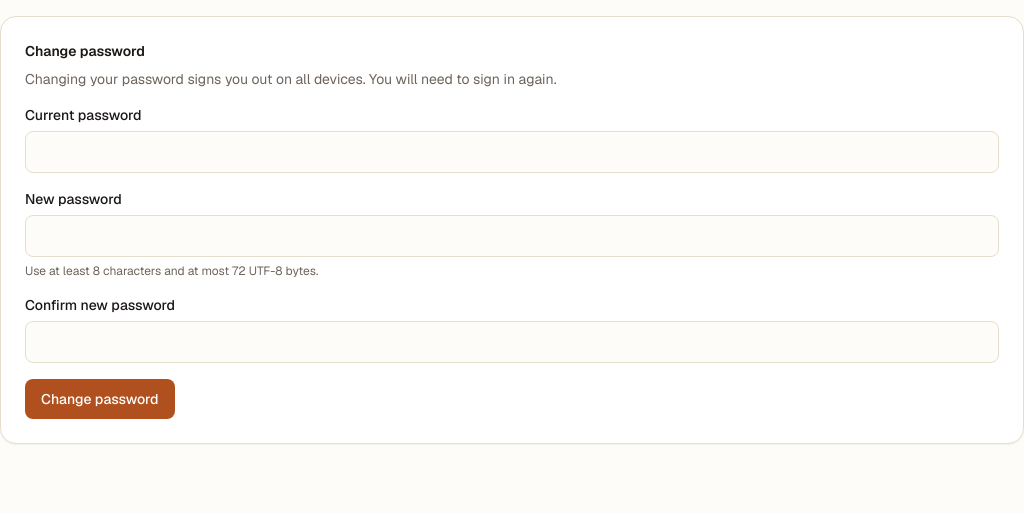
it: profile password form › validates before submitting ( / new password)
The image size is (1024, 513).
In the password field labelled "New password": {"x": 512, "y": 236} [25,215,999,257], type "new password"
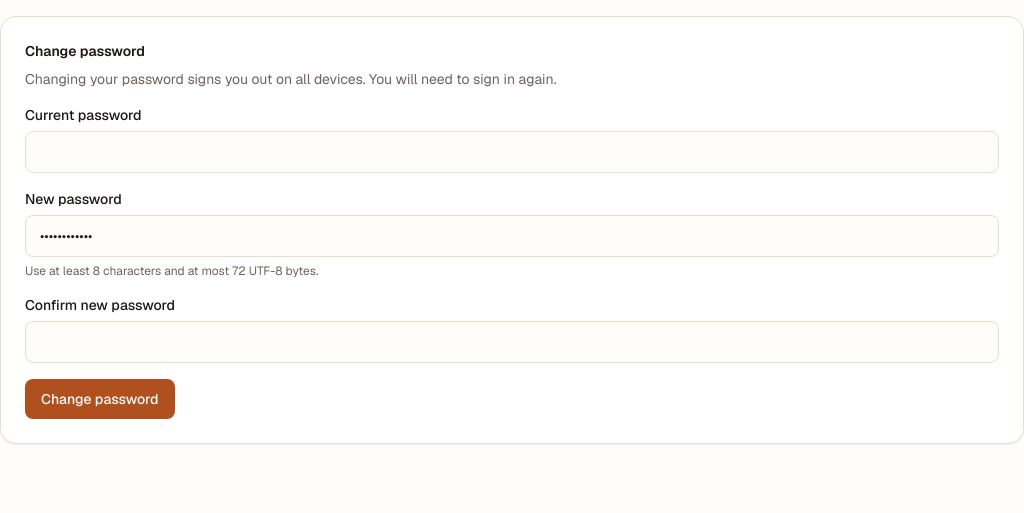
In the password field labelled "Confirm new password": {"x": 512, "y": 342} [25,321,999,363], type "new password"
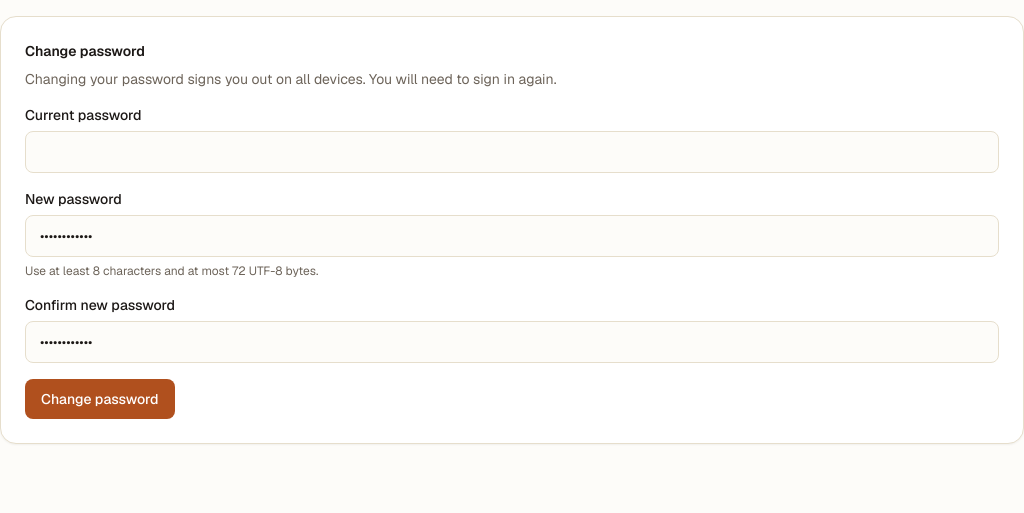
Submit the form named "Change password"
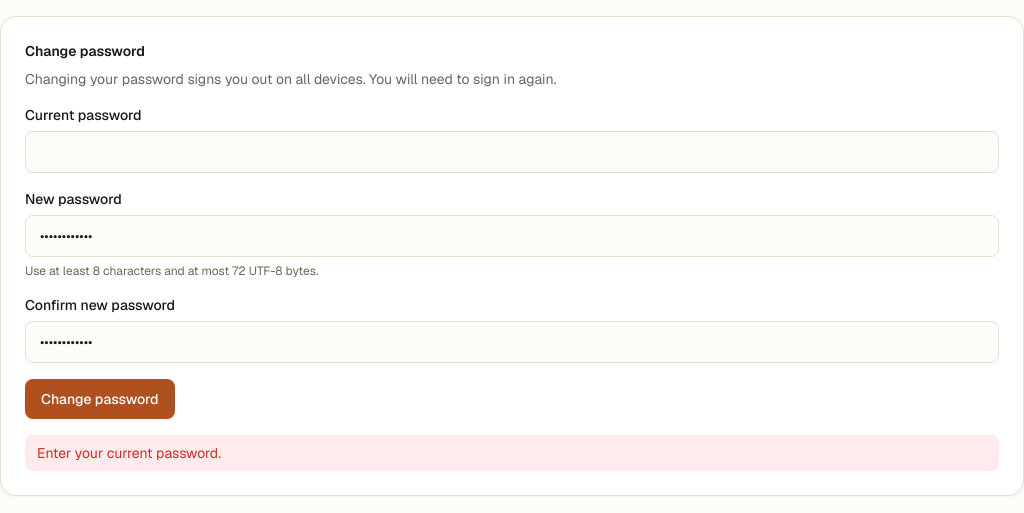
Expected: the message reads "Enter your current password.", [37,444,221,462]
